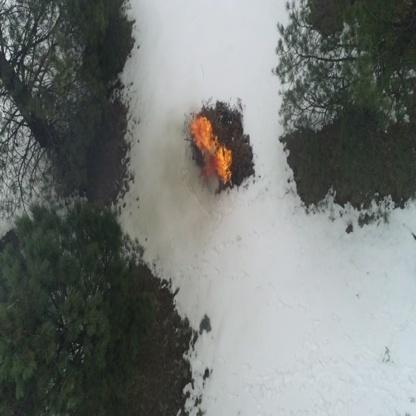Fire: (192, 117, 216, 155), (218, 146, 230, 185), (205, 153, 220, 174)
